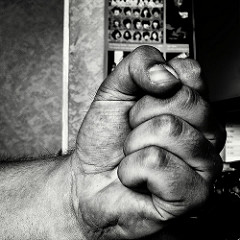fist: (92, 54, 207, 236)
